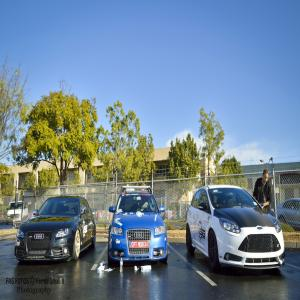Vehicle-registration-plate: (131, 242, 150, 249)
